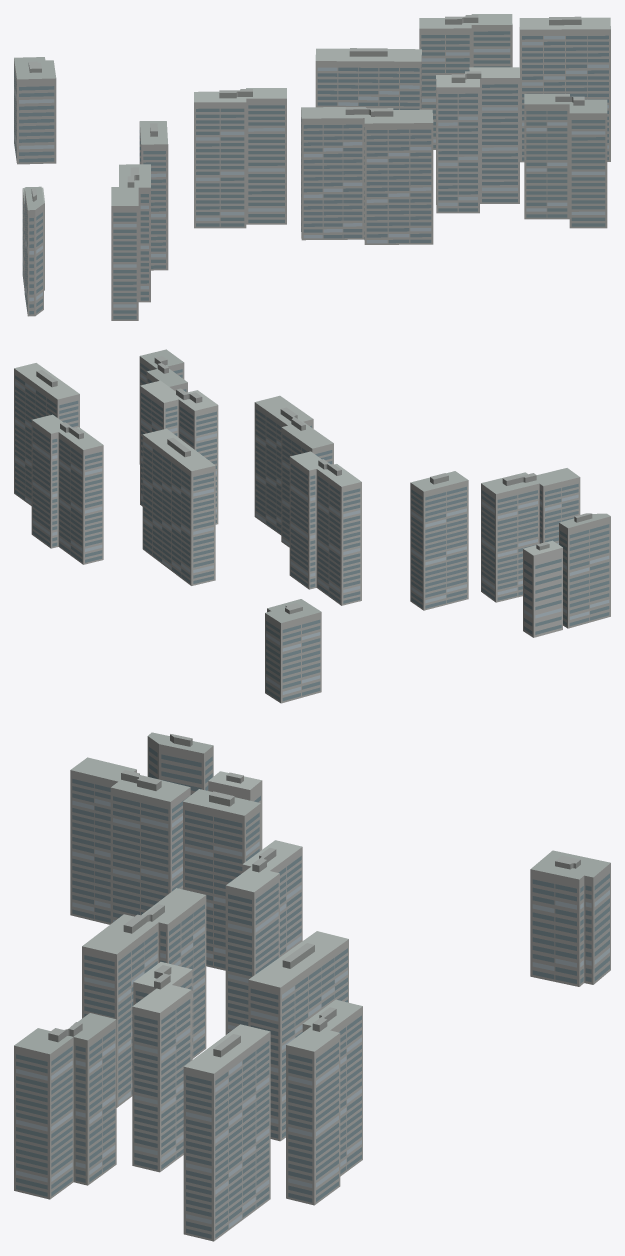
File: apt-a13083102.glb
3 views of the same model, one above another, from view 1: azimuth 30°, elevation 25°; view 2: azimuth 150°, elevation 25°; view 3: azimuth 270°, elevation 25° (orthographic). The views are drawn at different scales.
Parts seen in each view (by area): view 1: apt-a13083102; view 2: apt-a13083102; view 3: apt-a13083102.
Boxes of the visible parts, x1,y1,x2,y2 form: apt-a13083102: [14, 14, 610, 320]; apt-a13083102: [14, 349, 610, 703]; apt-a13083102: [14, 732, 610, 1241].
Bounding box in the file's own units: 286 × 62 × 192.
